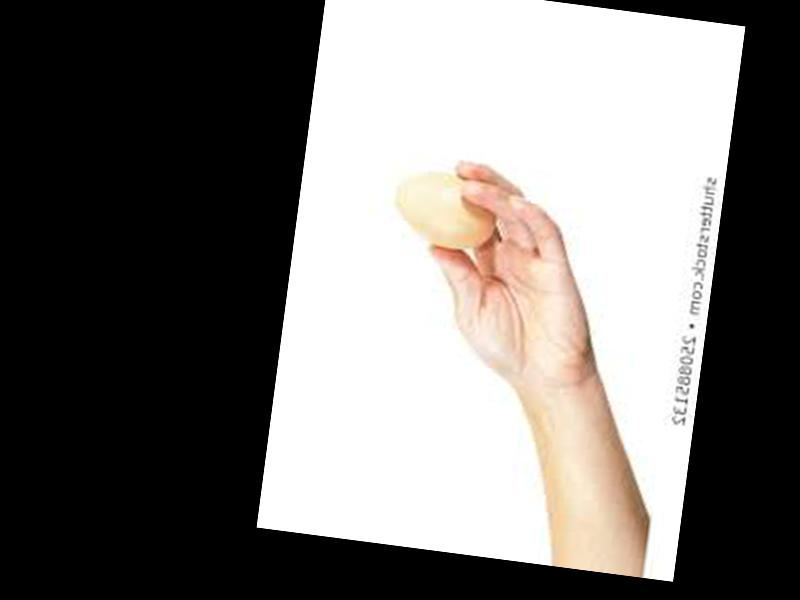Eggs: (387, 166, 504, 254)
